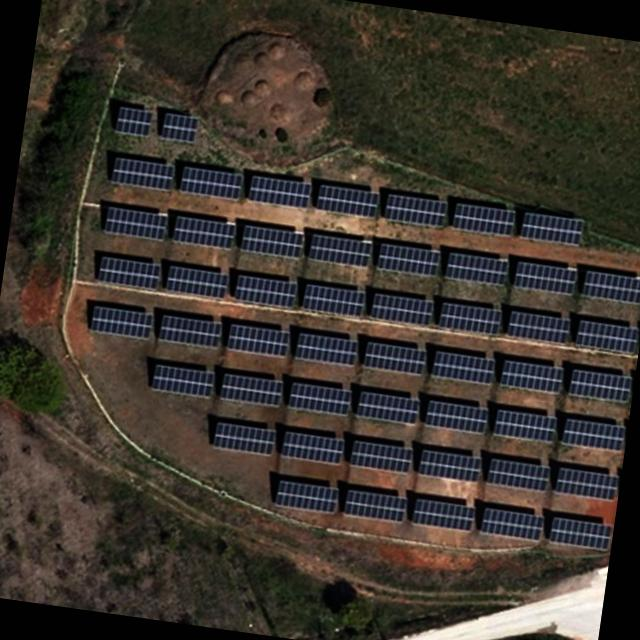solar: (313, 178, 383, 222), (85, 300, 156, 342), (291, 328, 360, 371), (208, 418, 278, 460), (490, 404, 560, 446), (450, 198, 520, 240), (146, 361, 219, 401), (176, 161, 247, 202), (102, 202, 170, 244), (572, 318, 640, 360), (301, 280, 369, 322), (354, 388, 424, 428), (368, 289, 438, 329), (108, 153, 176, 194), (504, 308, 572, 349), (429, 346, 497, 387), (382, 190, 450, 231), (483, 454, 552, 494), (442, 248, 511, 288), (305, 230, 374, 270), (218, 371, 288, 410), (498, 356, 566, 396), (438, 299, 504, 340), (512, 258, 579, 298), (169, 212, 236, 252), (558, 416, 628, 454), (346, 438, 414, 477), (280, 428, 346, 468), (272, 478, 341, 516), (564, 367, 633, 405), (96, 254, 164, 292), (546, 514, 614, 552), (422, 398, 490, 436), (360, 338, 428, 376), (376, 240, 444, 278), (479, 506, 546, 544), (518, 210, 585, 248), (162, 264, 230, 301), (342, 488, 408, 526), (552, 464, 618, 502), (239, 222, 305, 260), (578, 267, 640, 307), (416, 447, 482, 484), (286, 379, 352, 416), (409, 496, 476, 532), (232, 272, 299, 308), (247, 173, 312, 210), (157, 314, 224, 346), (111, 103, 158, 140), (158, 109, 200, 143)
